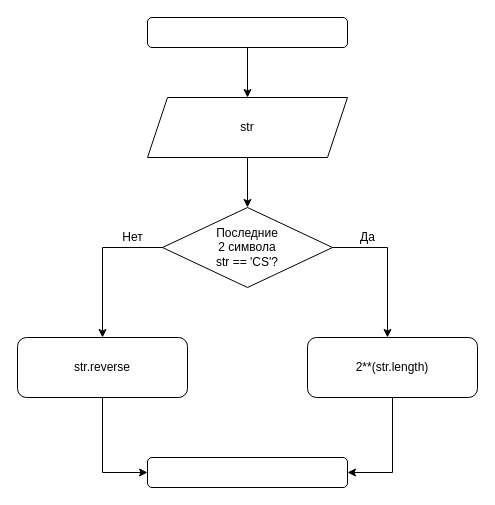
This 495x505 diagram has some shape labels left out. Here are the shapes that lost their labels. From the top down, the box of each, then its label:
(146, 16, 348, 48): Начало
(146, 456, 348, 488): Конец
